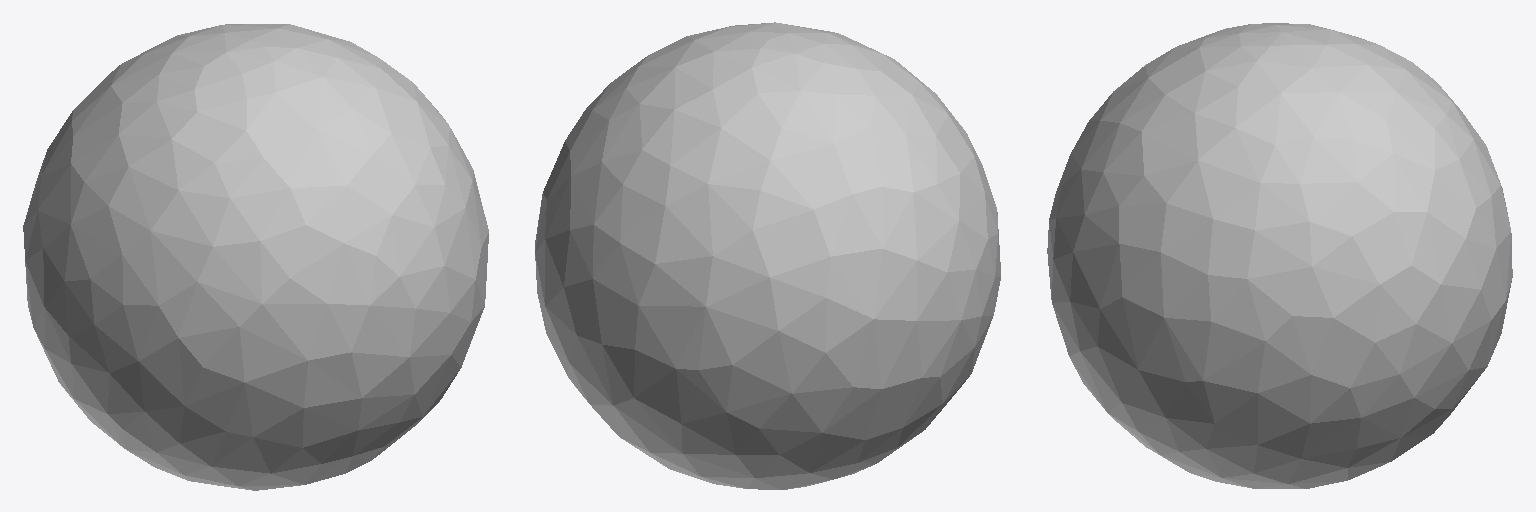
Rendered from Neptune.obj.
3 views of the same model, side by side, from view 1: azimuth 30°, elevation 25°; view 2: azimuth 150°, elevation 25°; view 3: azimuth 270°, elevation 25° (orthographic).
Visible parts, largest first — view 1: Neptun_Sphere.001; view 2: Neptun_Sphere.001; view 3: Neptun_Sphere.001.
Part boxes in pixels (left/top/right/bottom): Neptun_Sphere.001: left=23, top=24, right=488, bottom=490; Neptun_Sphere.001: left=535, top=22, right=1000, bottom=489; Neptun_Sphere.001: left=1047, top=23, right=1512, bottom=488.
Size of the model in its own units: 2 by 2 by 1.99.